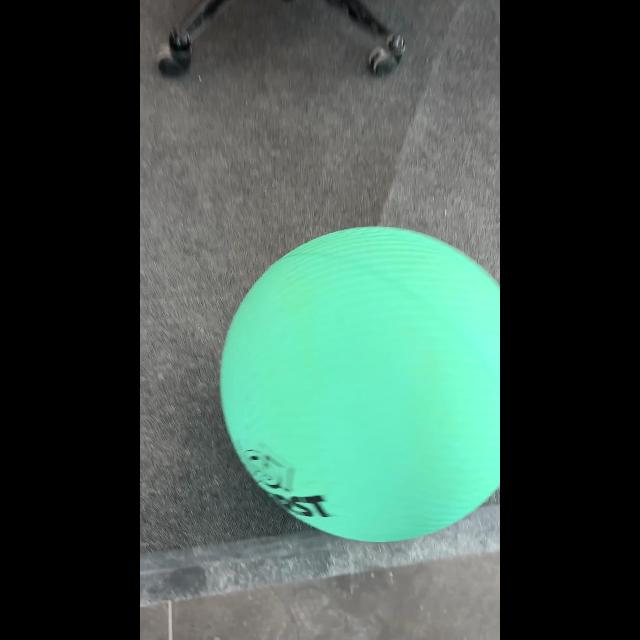ALGAE: (219, 224, 499, 544)
